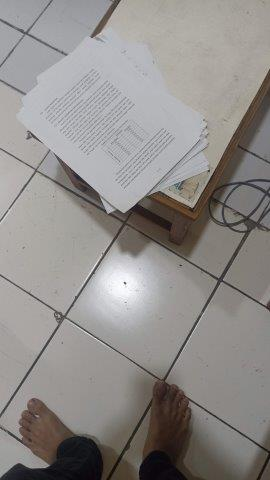kertas: (20, 26, 211, 217)
